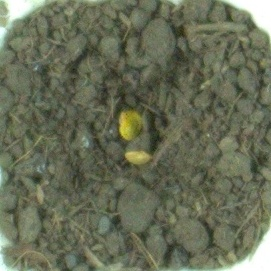pepper seed: (45, 66, 202, 232), (43, 38, 191, 180)
